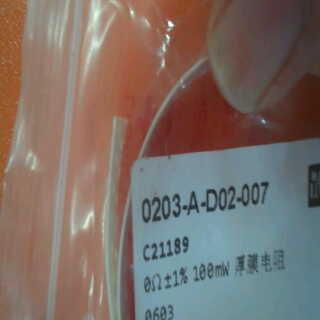0R: (139, 264, 193, 320)
